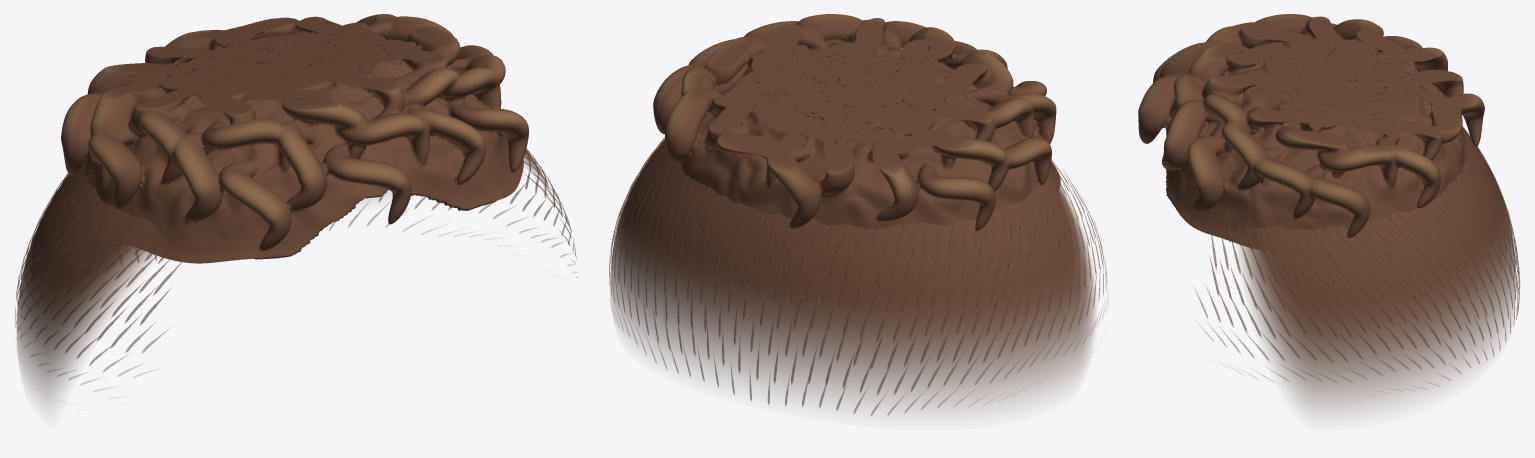
The model's file is Masculine-curly-top-bucket259-hair-ombre.glb.
3 views of the same model, side by side, from view 1: azimuth 30°, elevation 25°; view 2: azimuth 150°, elevation 25°; view 3: azimuth 270°, elevation 25° (orthographic). The views are drawn at different scales.
Visible parts, largest first — view 1: 226 hair / Hair252 / sculpted curl groups, 226 hair / Hair258 / smooth side fade, 226 hair / Hair259 / directional fade marks214; view 2: 226 hair / Hair258 / smooth side fade, 226 hair / Hair252 / sculpted curl groups, 226 hair / Hair259 / directional fade marks214; view 3: 226 hair / Hair252 / sculpted curl groups, 226 hair / Hair258 / smooth side fade, 226 hair / Hair259 / directional fade marks214.
Boxes of the visible parts, bbox=[...] form: 226 hair / Hair252 / sculpted curl groups: bbox=[61, 14, 528, 263]; 226 hair / Hair258 / smooth side fade: bbox=[16, 58, 555, 404]; 226 hair / Hair259 / directional fade marks214: bbox=[15, 143, 577, 391]; 226 hair / Hair258 / smooth side fade: bbox=[611, 85, 1095, 410]; 226 hair / Hair252 / sculpted curl groups: bbox=[653, 14, 1060, 230]; 226 hair / Hair259 / directional fade marks214: bbox=[609, 137, 1108, 415]; 226 hair / Hair252 / sculpted curl groups: bbox=[1138, 14, 1484, 249]; 226 hair / Hair258 / smooth side fade: bbox=[1237, 73, 1516, 412]; 226 hair / Hair259 / directional fade marks214: bbox=[1194, 126, 1520, 389].
Bounding box in the file's own units: 0.9743 × 0.6147 × 0.7572.
